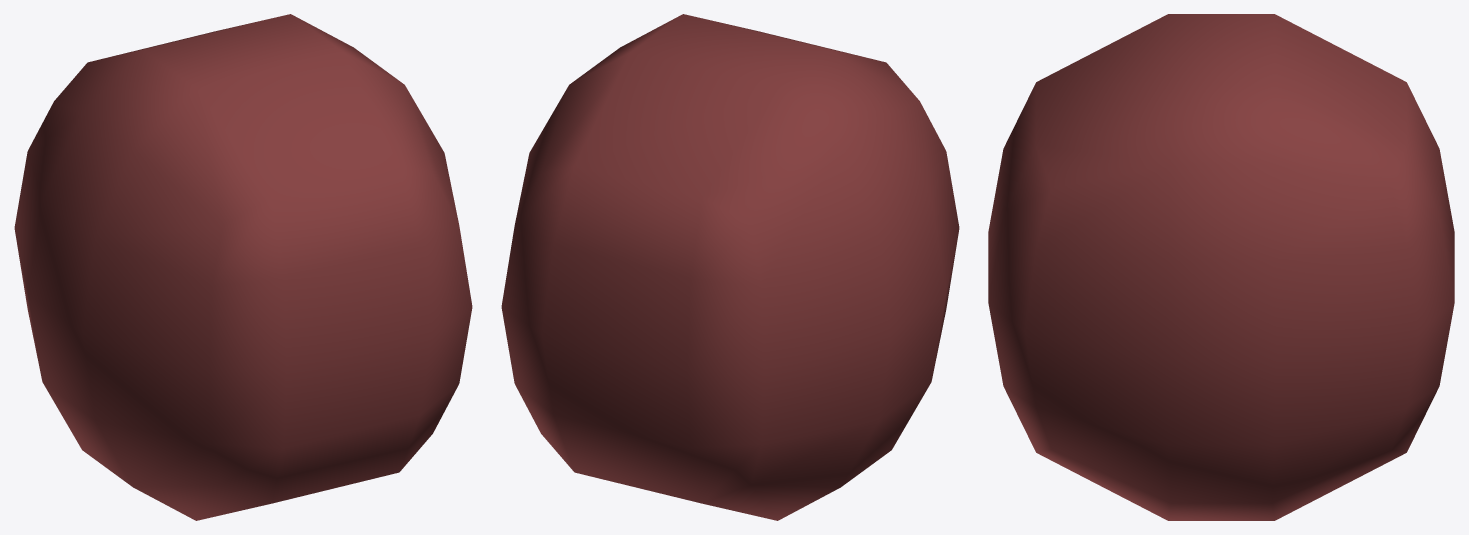
File: Orb red.fbx
The picture shows the model from 3 angles, left to right: view 1: azimuth 30°, elevation 25°; view 2: azimuth 150°, elevation 25°; view 3: azimuth 270°, elevation 25°; orthographic projection.
Visible parts, largest first — view 1: pCube59; view 2: pCube59; view 3: pCube59.
Part boxes in pixels (box(x1,y1,x2,y2)): pCube59: box(14, 14, 472, 520); pCube59: box(501, 14, 959, 520); pCube59: box(988, 14, 1454, 520).
Bounding box in the file's own units: 3.59 × 3.94 × 3.83.
